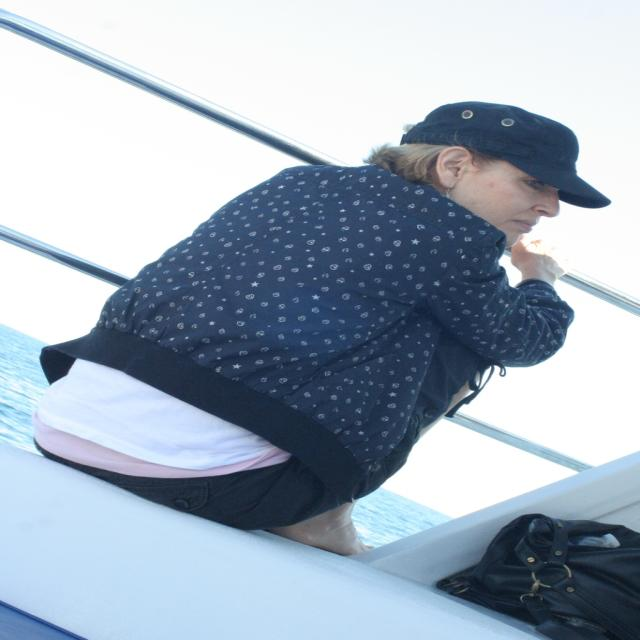Hat: (396, 98, 610, 210)
